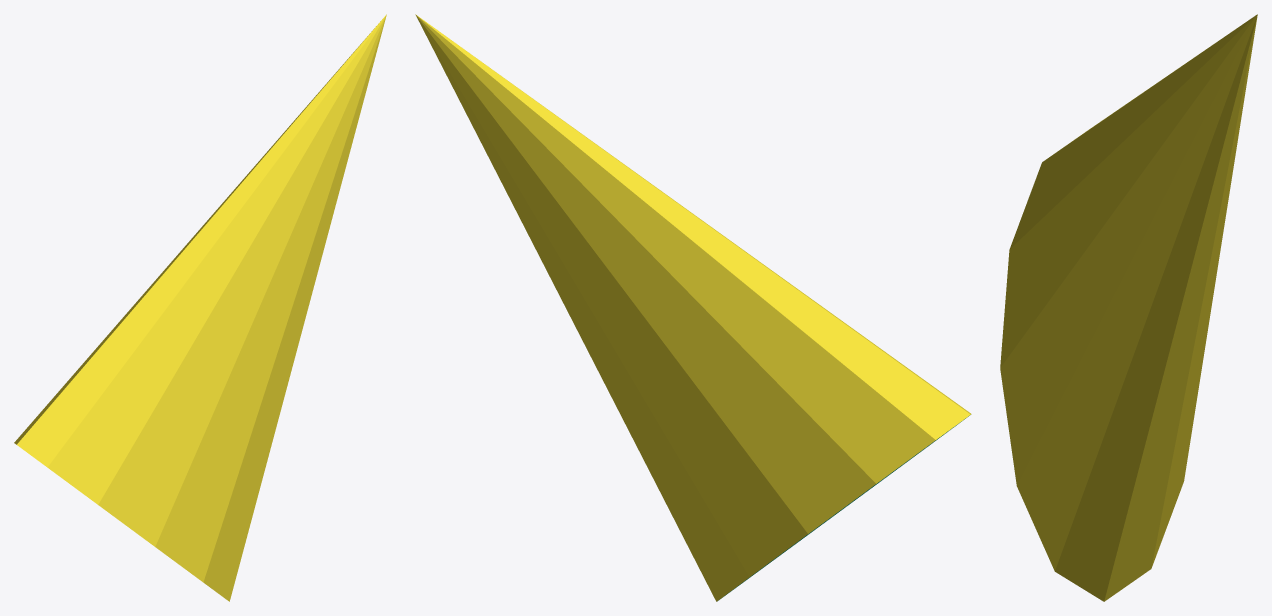
Rendered from n5_n5_group1745919477_lev5.001.glb.
3 renders of one model, left to right at view 1: azimuth 30°, elevation 25°; view 2: azimuth 150°, elevation 25°; view 3: azimuth 270°, elevation 25°, orthographic. The views are drawn at different scales.
Parts seen in each view (by area): view 1: n5_n5_group1745919477_lev5.001; view 2: n5_n5_group1745919477_lev5.001; view 3: n5_n5_group1745919477_lev5.001.
Boxes of the visible parts, bbox=[...] form: n5_n5_group1745919477_lev5.001: bbox=[14, 14, 386, 601]; n5_n5_group1745919477_lev5.001: bbox=[415, 14, 971, 601]; n5_n5_group1745919477_lev5.001: bbox=[1000, 14, 1257, 601].
Size of the model in its own units: 2.24 by 2.49 by 0.7845.
